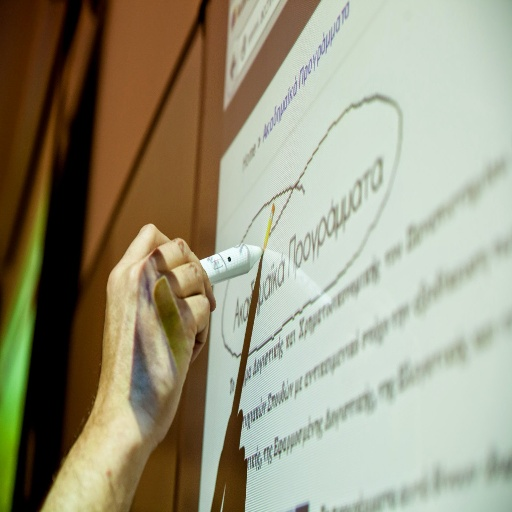hand: (40, 230, 229, 493)
